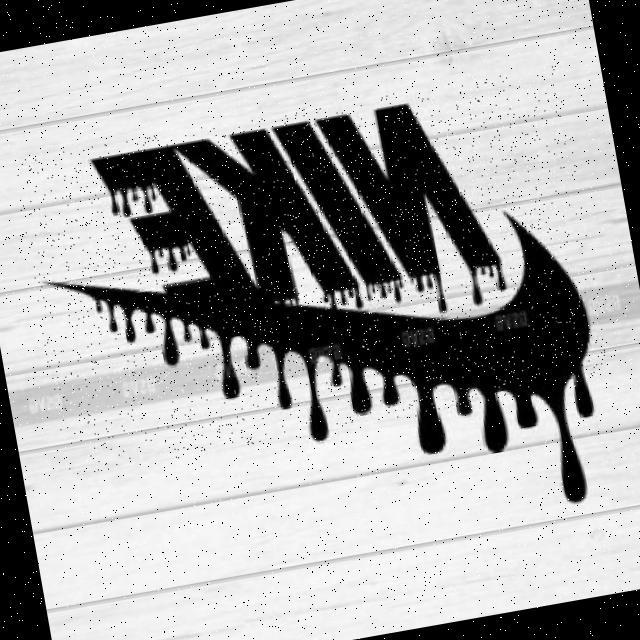Nike: (12, 64, 613, 477)
